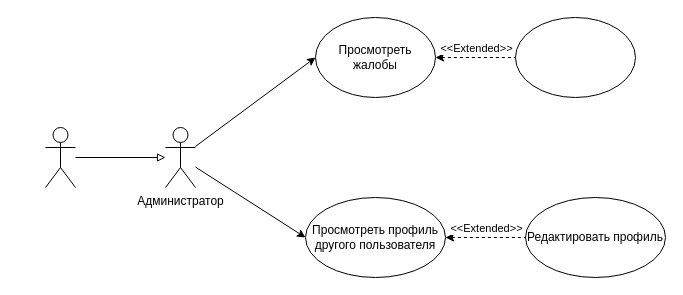
This 683x295 diagram has some shape labels left out. The centre of each missing label's shape, as x and y in pixels:
Преподаватель: [60,157]
Принять решение насчет жалобы: [575,57]
